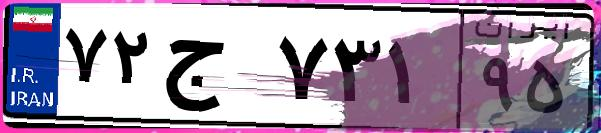1: (385, 28, 445, 110)
2: (110, 28, 158, 98)
3: (330, 28, 385, 110)
5: (525, 38, 570, 115)
7: (270, 28, 330, 110), (57, 26, 110, 100)
9: (475, 38, 525, 113)
ج: (158, 20, 270, 120)
